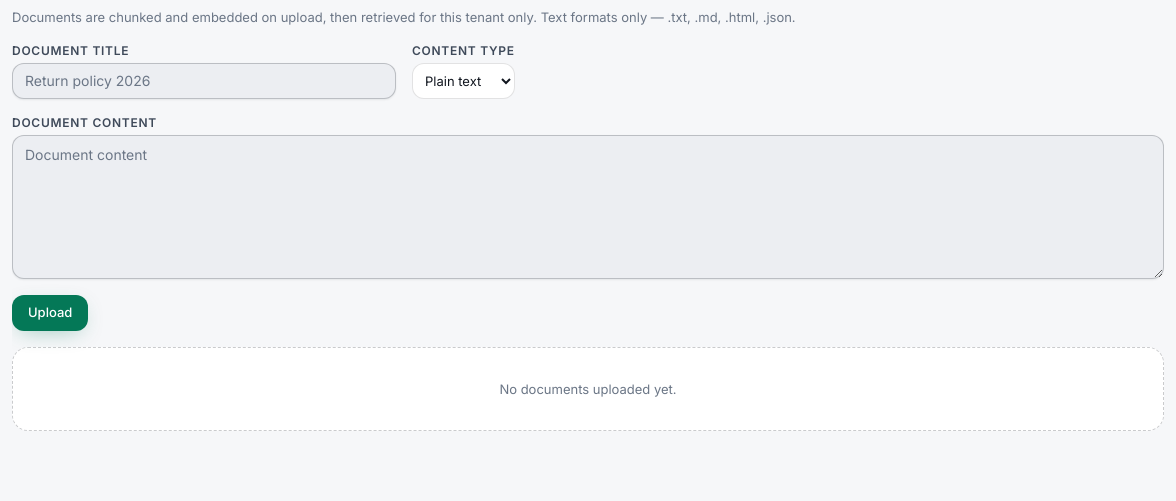
Test: KnowledgeManager › relays a refused format instead of uploading it anyway
The image size is (1176, 501).
Type "Deck" into the field labelled "Document title".
click(204, 81); type("Deck")  # box [12,63,396,99]
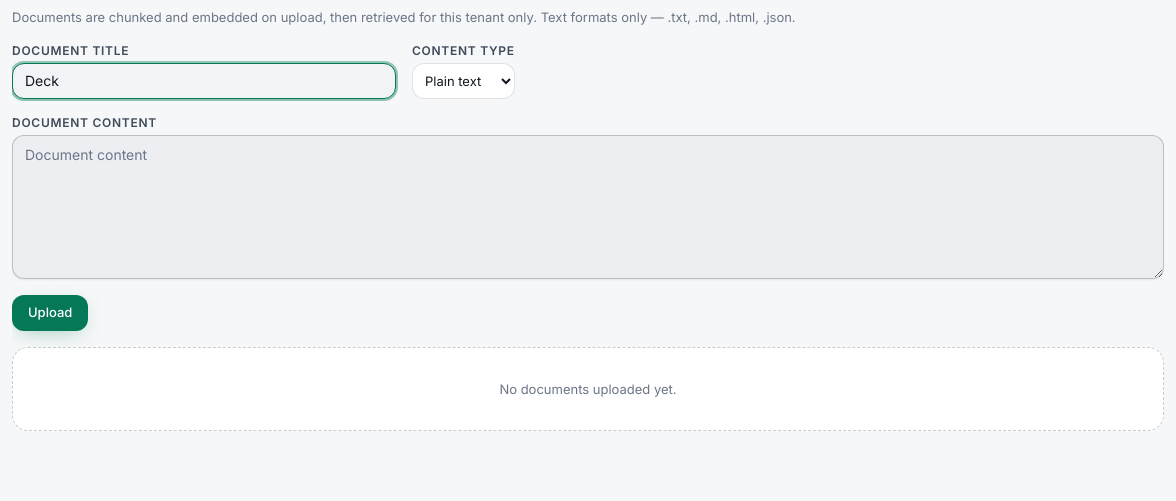
Type "%PDF-1.7" into the text box labelled "Document content".
click(588, 207); type("%PDF-1.7")  # box [12,135,1164,279]
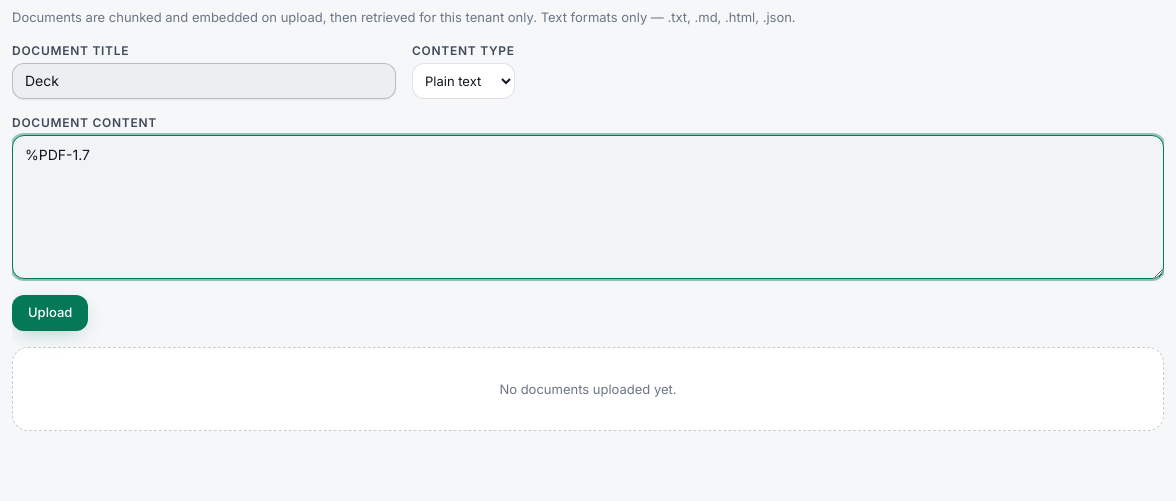
Click the button "Upload".
click(50, 313)  # box [12,295,88,331]
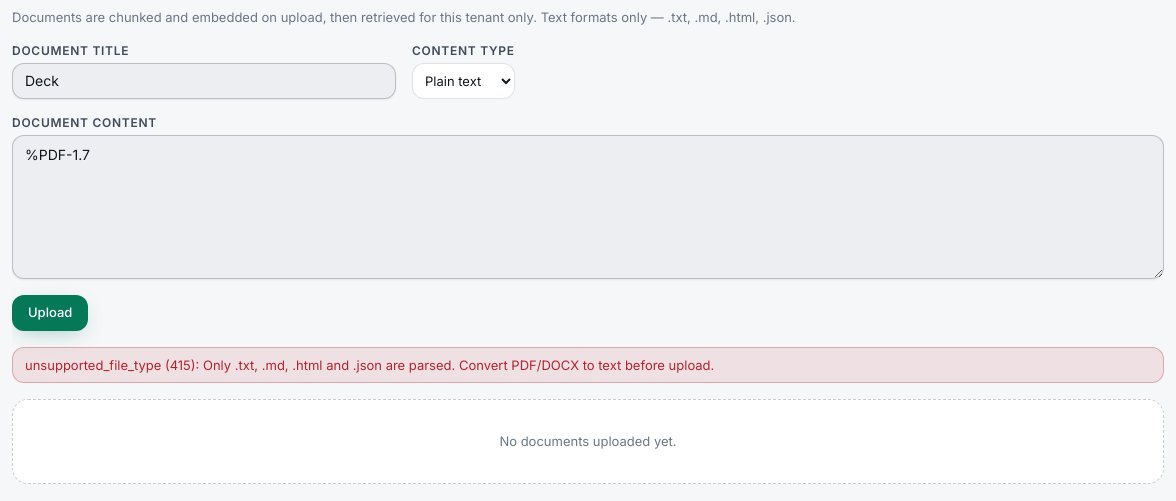
Expected: the message shows "unsupported_file_type", [25,357,714,373]
Expected: the message shows "Convert PDF/DOCX to text", [25,357,714,373]
